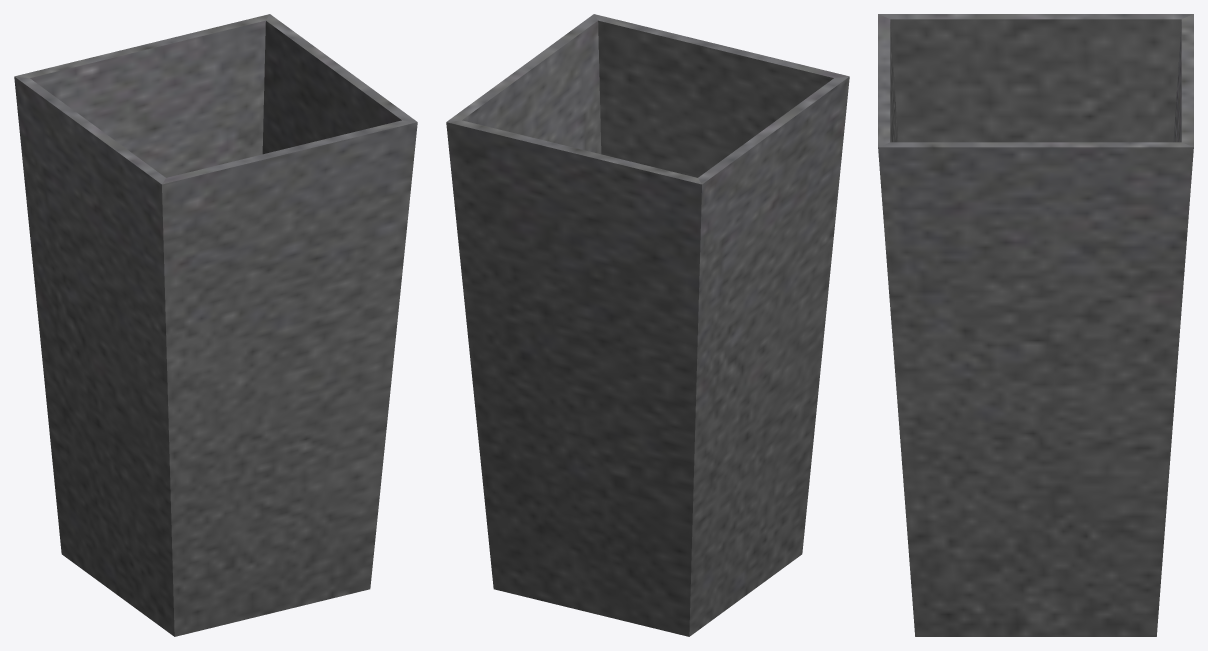
The model's file is empty_trash_can001.fbx.
The picture shows the model from 3 angles, left to right: view 1: azimuth 30°, elevation 25°; view 2: azimuth 150°, elevation 25°; view 3: azimuth 270°, elevation 25°; orthographic projection. The views are drawn at different scales.
Visible parts, largest first — view 1: Cube; view 2: Cube; view 3: Cube.
Boxes of the visible parts, x1,y1,x2,y2 form: Cube: (14, 14, 417, 636); Cube: (446, 14, 849, 636); Cube: (878, 14, 1193, 636).
Size of the model in its own units: 200 by 353 by 200.
Materials: 1 (1 with a texture image).
